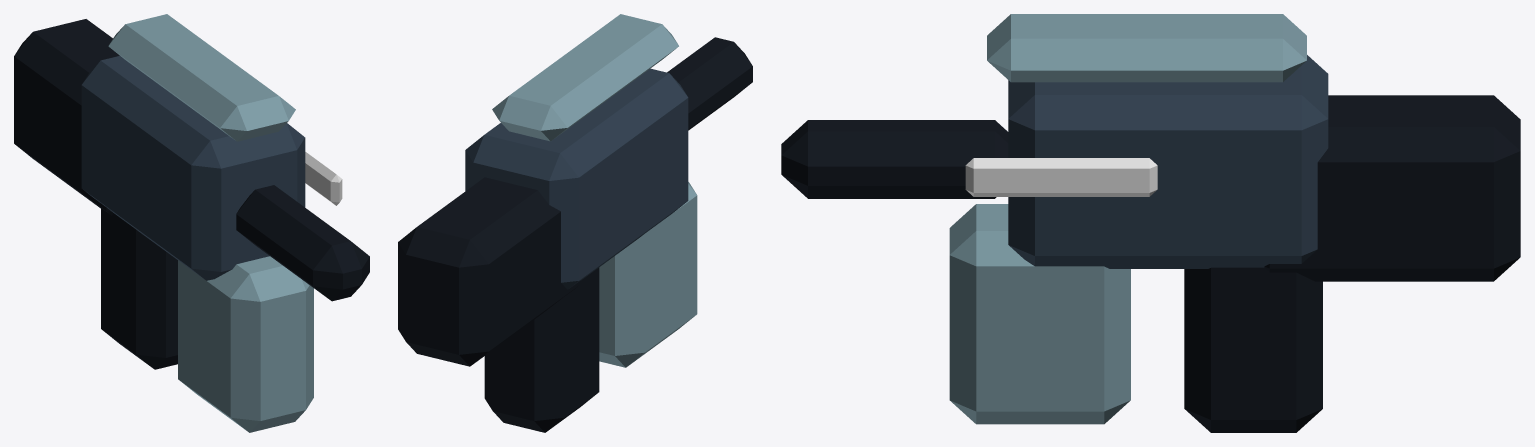
File: Stinger.fbx
3 views of the same model, side by side, from view 1: azimuth 30°, elevation 25°; view 2: azimuth 150°, elevation 25°; view 3: azimuth 270°, elevation 25° (orthographic). The views are drawn at different scales.
Visible parts, largest first — view 1: Stinger_Mesh; view 2: Stinger_Mesh; view 3: Stinger_Mesh.
Boxes of the visible parts, x1,y1,x2,y2 form: Stinger_Mesh: [14, 14, 369, 432]; Stinger_Mesh: [398, 14, 752, 432]; Stinger_Mesh: [781, 14, 1520, 432].
Bounding box in the file's own units: 16.55 × 40.75 × 69.25.
